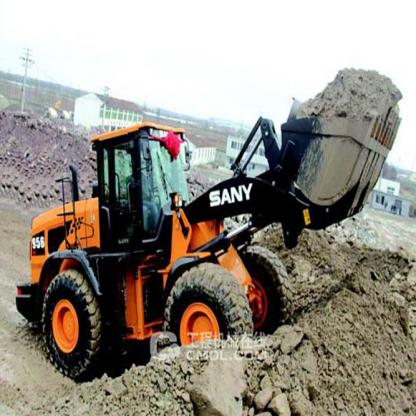bull_dozer/loader/grader: (12, 69, 398, 382)
